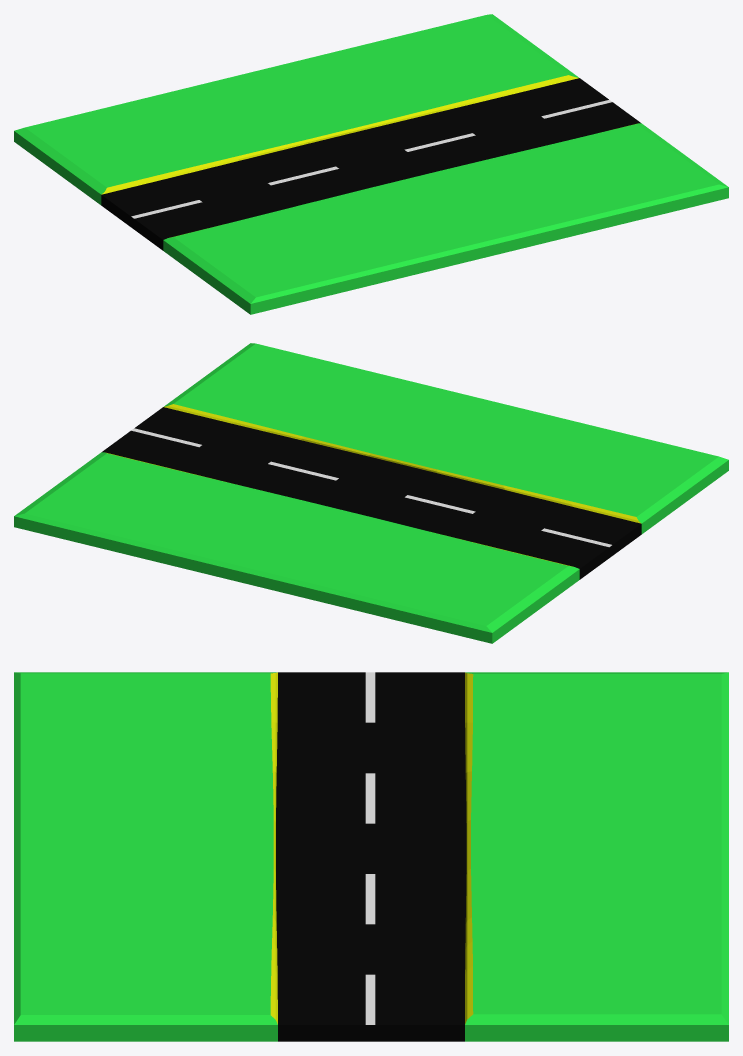
The picture shows the model from 3 angles, top to bottom: view 1: azimuth 30°, elevation 25°; view 2: azimuth 150°, elevation 25°; view 3: azimuth 270°, elevation 25°; orthographic projection. The views are drawn at different scales.
Visible parts, largest first — view 1: Cube; view 2: Cube; view 3: Cube.
Part boxes in pixels (box(x1,y1,x2,y2)): Cube: box(14, 14, 728, 314); Cube: box(14, 343, 728, 643); Cube: box(14, 672, 728, 1041).
Size of the model in its own units: 10989 by 306 by 9414.
